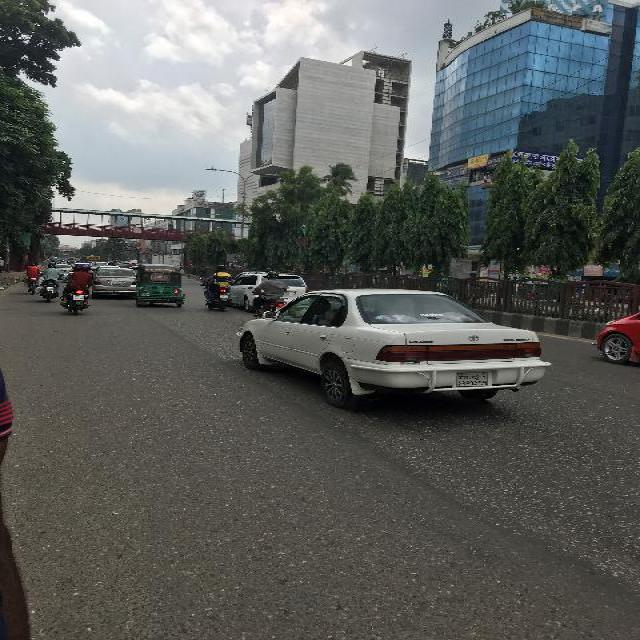bike: (60, 266, 94, 317), (253, 272, 289, 318), (200, 265, 234, 311), (40, 264, 63, 303), (25, 264, 41, 295)
vehicle: (236, 290, 553, 410), (231, 272, 311, 312), (135, 264, 184, 308), (94, 269, 137, 298), (81, 256, 101, 265), (57, 265, 73, 276), (90, 263, 109, 270)
